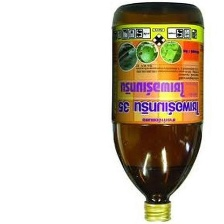insecticide: (109, 0, 205, 223)
